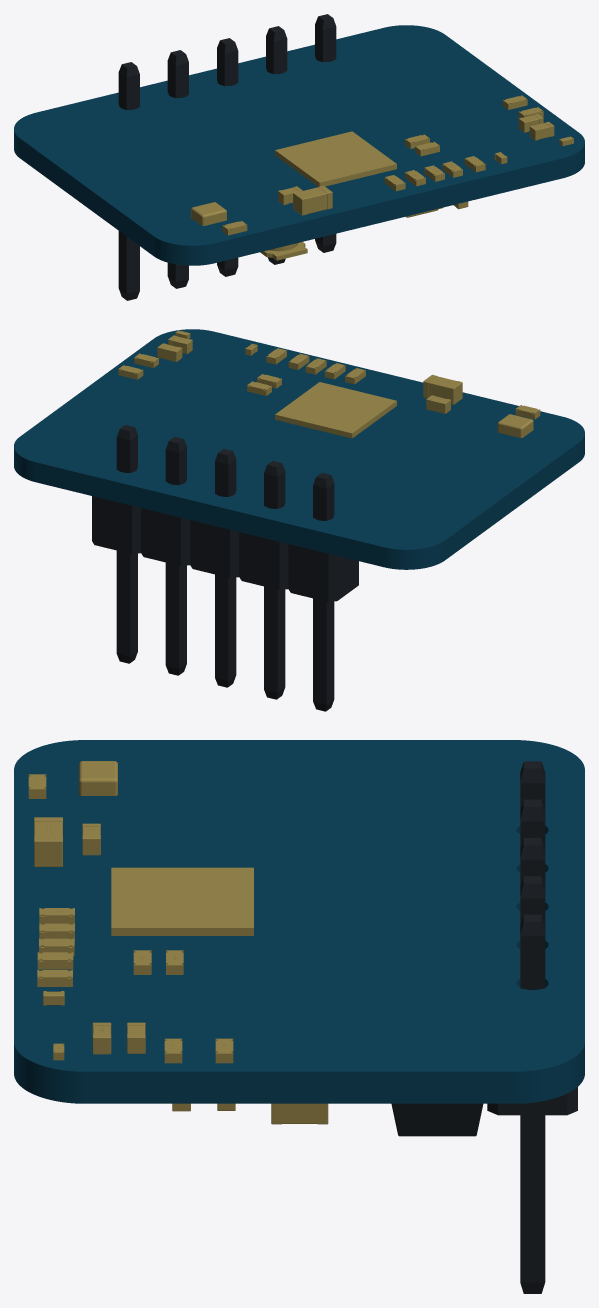
Rendered from HLK-LD2410C.glb.
The picture shows the model from 3 angles, top to bottom: view 1: azimuth 30°, elevation 25°; view 2: azimuth 150°, elevation 25°; view 3: azimuth 270°, elevation 25°; orthographic projection. The views are drawn at different scales.
Parts seen in each view (by area): view 1: HLK_solid_000, HLK_solid_153, HLK_solid_188, HLK_solid_173, HLK_solid_218, HLK_solid_233, HLK_solid_203, HLK_solid_248, HLK_solid_798, HLK_solid_158; view 2: HLK_solid_000, HLK_solid_188, HLK_solid_203, HLK_solid_173, HLK_solid_218, HLK_solid_233, HLK_solid_153, HLK_solid_248; view 3: HLK_solid_000, HLK_solid_153, HLK_solid_233, HLK_solid_137, HLK_solid_248, HLK_solid_203, HLK_solid_188, HLK_solid_173, HLK_solid_218, HLK_solid_797, HLK_solid_696.
Part boxes in pixels (<box>): HLK_solid_000: <box>14,25,584,265</box>; HLK_solid_153: <box>275,131,396,186</box>; HLK_solid_188: <box>118,62,139,300</box>; HLK_solid_173: <box>167,50,188,288</box>; HLK_solid_218: <box>217,38,238,276</box>; HLK_solid_233: <box>315,14,336,252</box>; HLK_solid_203: <box>266,26,287,264</box>; HLK_solid_248: <box>191,202,226,225</box>; HLK_solid_798: <box>299,187,326,213</box>; HLK_solid_158: <box>260,242,307,260</box>; HLK_solid_000: <box>14,329,584,569</box>; HLK_solid_188: <box>288,473,358,711</box>; HLK_solid_203: <box>141,437,190,675</box>; HLK_solid_173: <box>239,461,288,699</box>; HLK_solid_218: <box>190,449,239,687</box>; HLK_solid_233: <box>92,425,140,663</box>; HLK_solid_153: <box>275,382,396,438</box>; HLK_solid_248: <box>497,414,533,437</box>; HLK_solid_000: <box>14,740,584,1103</box>; HLK_solid_153: <box>111,867,253,935</box>; HLK_solid_233: <box>487,914,577,1293</box>; HLK_solid_137: <box>391,1103,483,1136</box>; HLK_solid_248: <box>79,761,117,795</box>; HLK_solid_203: <box>520,876,545,925</box>; HLK_solid_188: <box>520,761,545,810</box>; HLK_solid_173: <box>520,799,545,848</box>; HLK_solid_218: <box>520,838,545,886</box>; HLK_solid_797: <box>34,836,62,866</box>; HLK_solid_696: <box>282,1103,317,1123</box>.
Size of the model in its own units: 22 by 11.5 by 16.
